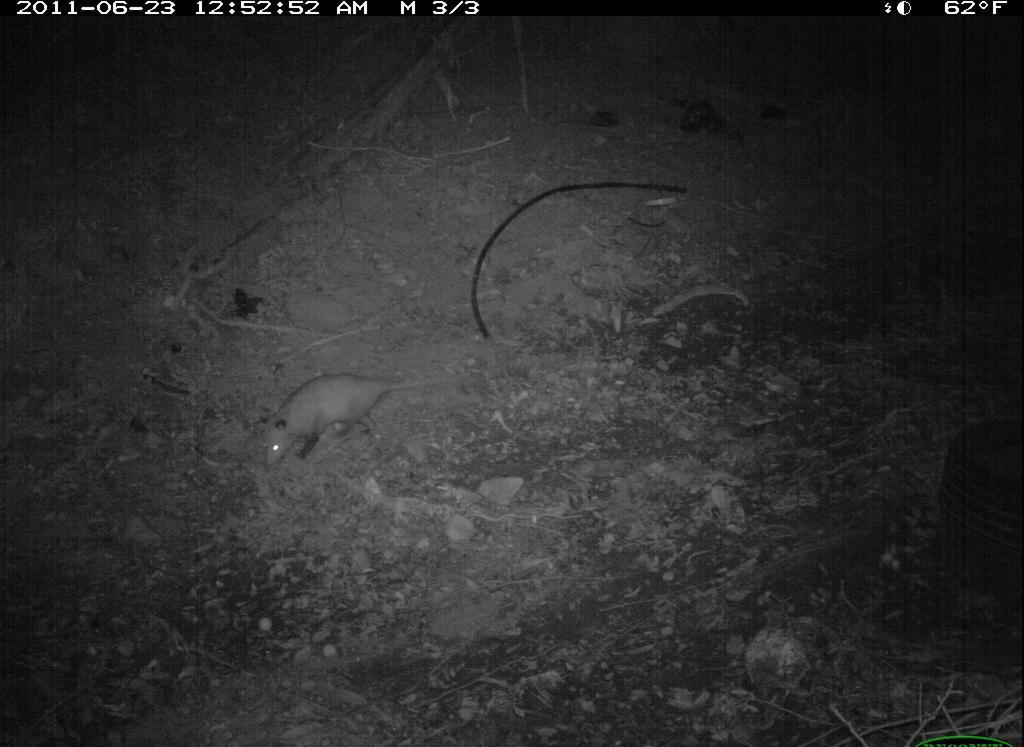opossum: (253, 364, 461, 474)
